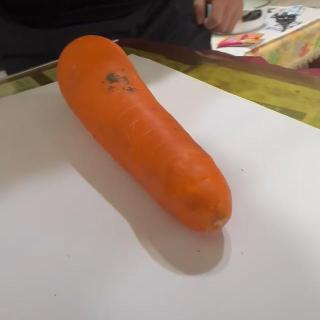carrot: (56, 34, 232, 234)
